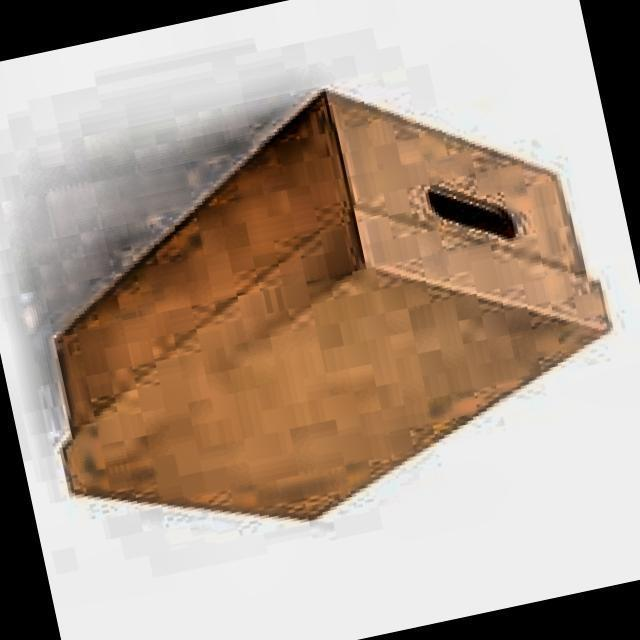cardboard: (0, 42, 640, 574)
